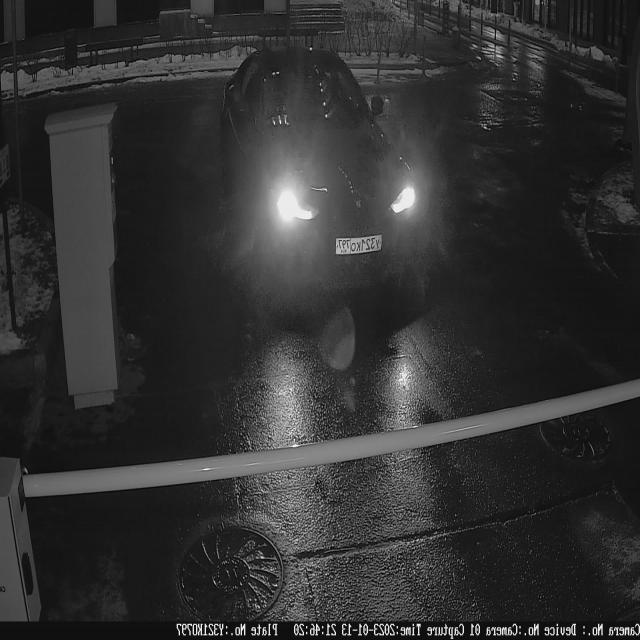car-plate-numbers: (332, 230, 386, 262)
